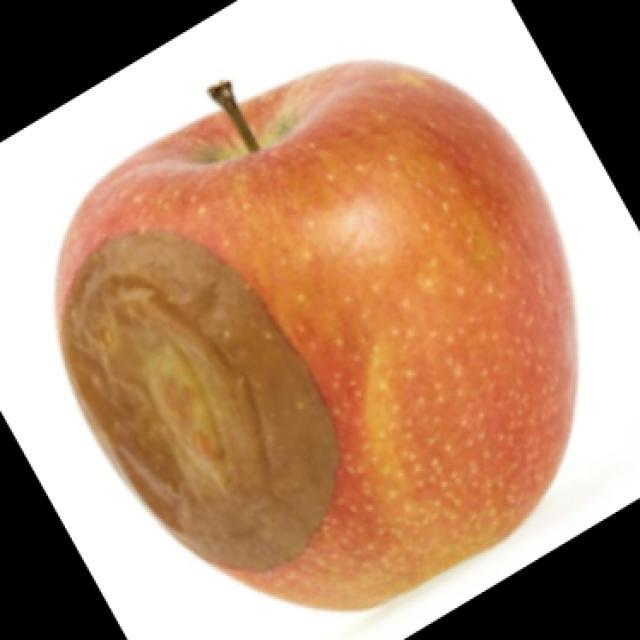Rotten: (93, 80, 557, 580)
